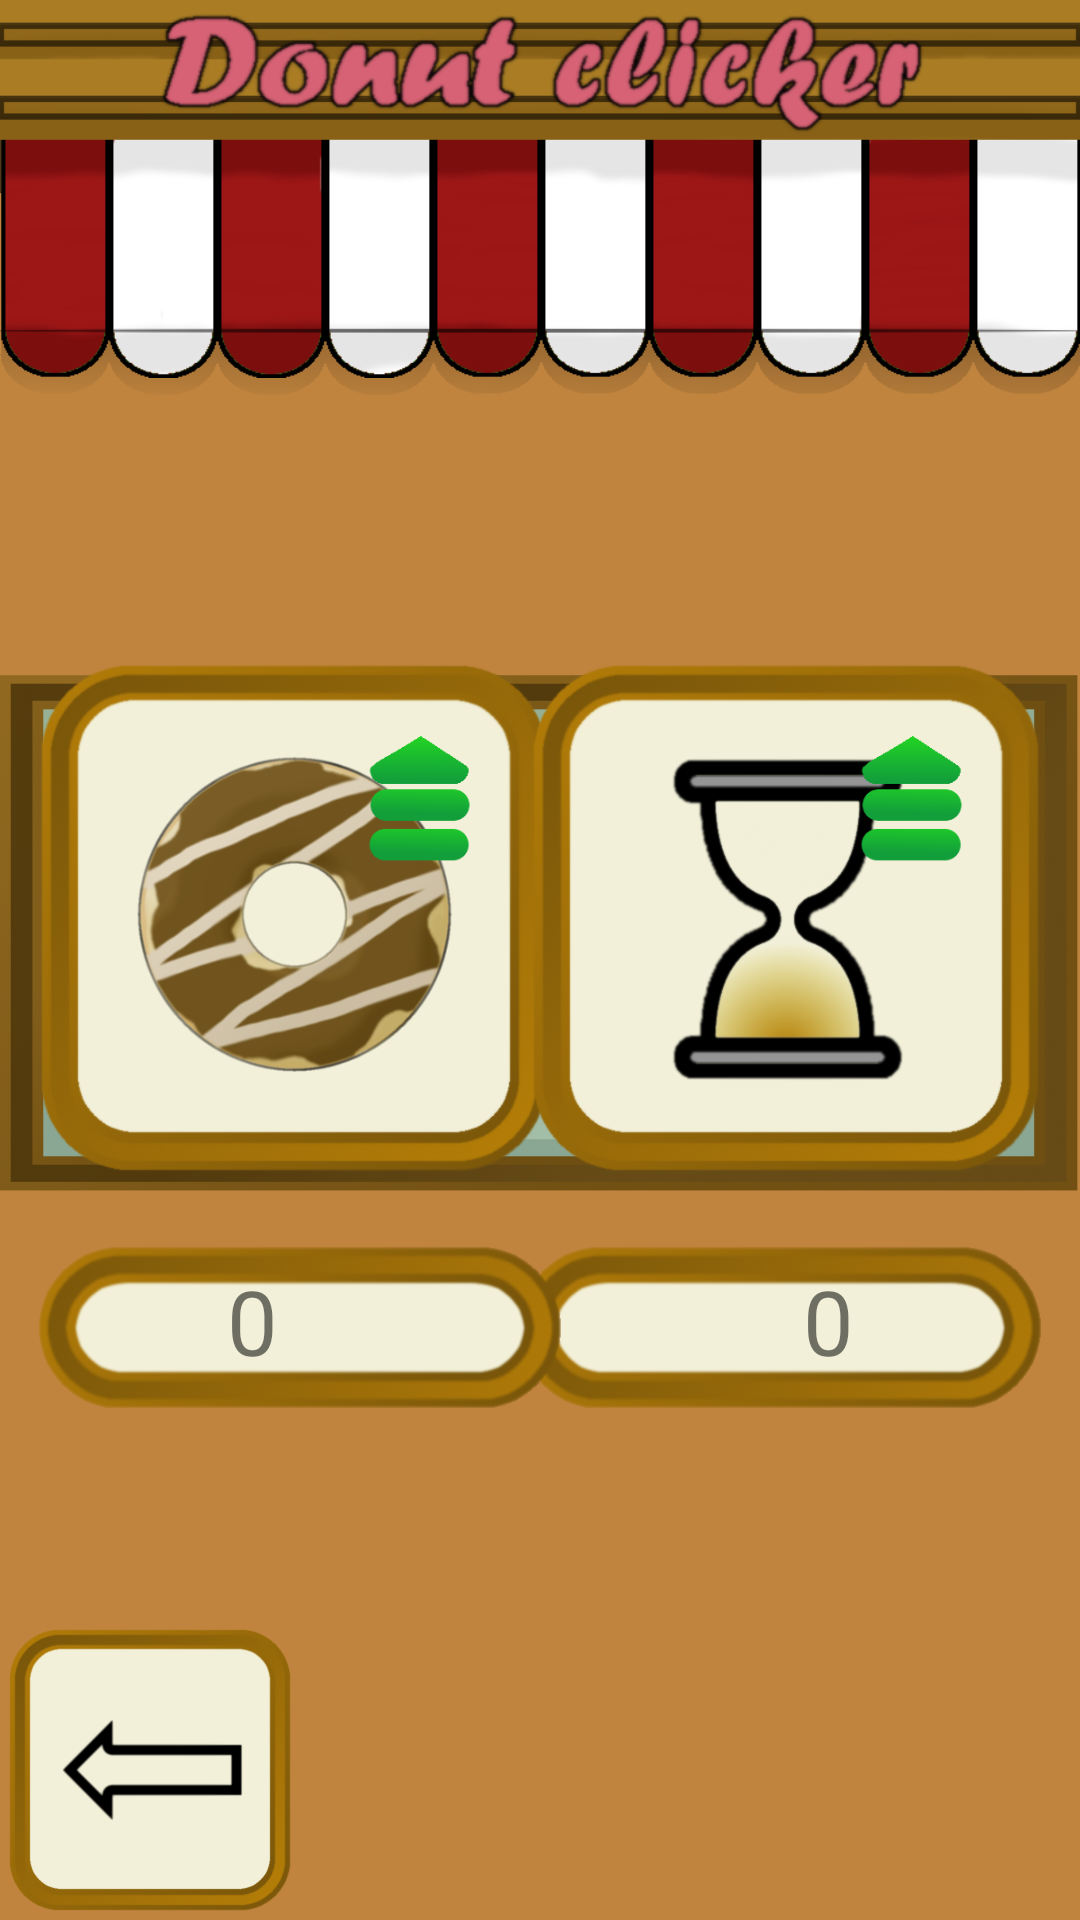

Named icons in this screenshot (1080 × 1920) and their centers, (x=x, y=y):
back: (x=150, y=1770)
